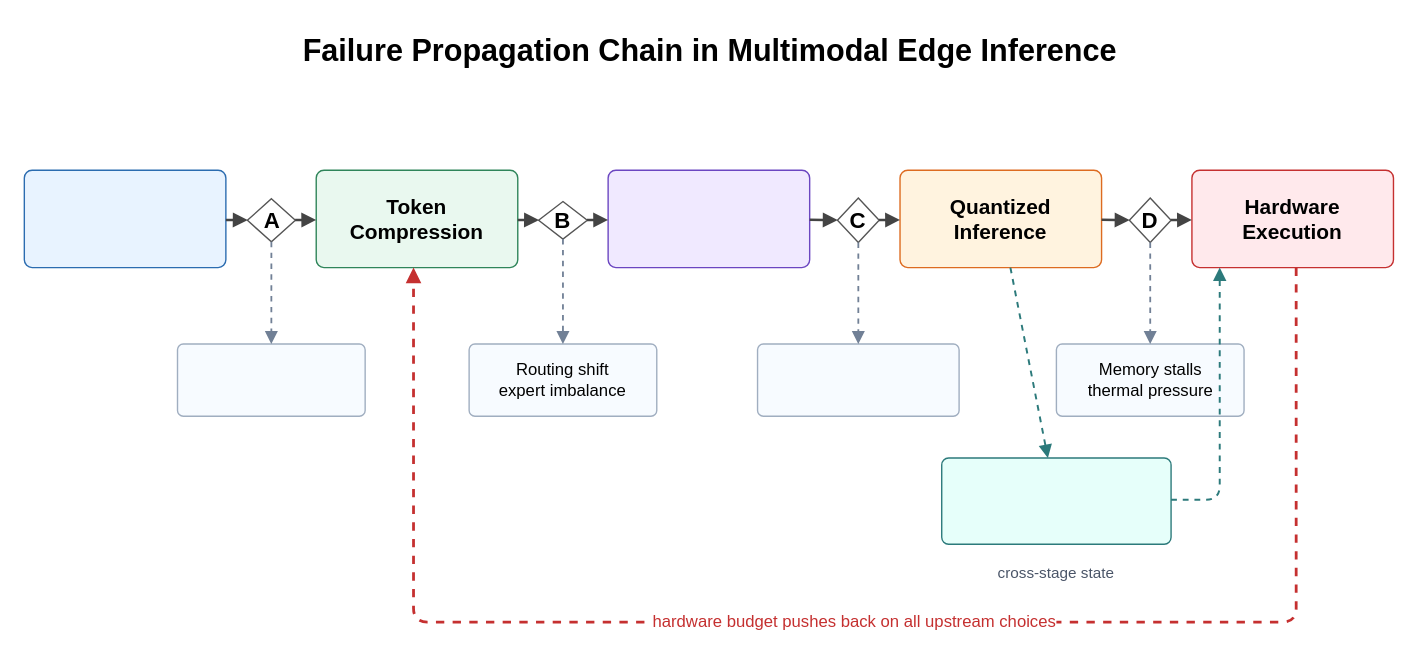
Some shapes in this 1418 by 657 pixel diagram are drawn without their labels. Here are the shapes that lost their labels. From the top down, the box of each, then its label:
(23, 169, 226, 268): Visual Input images / video / OCR
(607, 169, 810, 268): MoE Routing
(176, 343, 365, 416): Evidence loss spatial disruption
(756, 343, 959, 416): Assignment drift precision sensitivity
(940, 457, 1171, 544): KV Cache stored states
